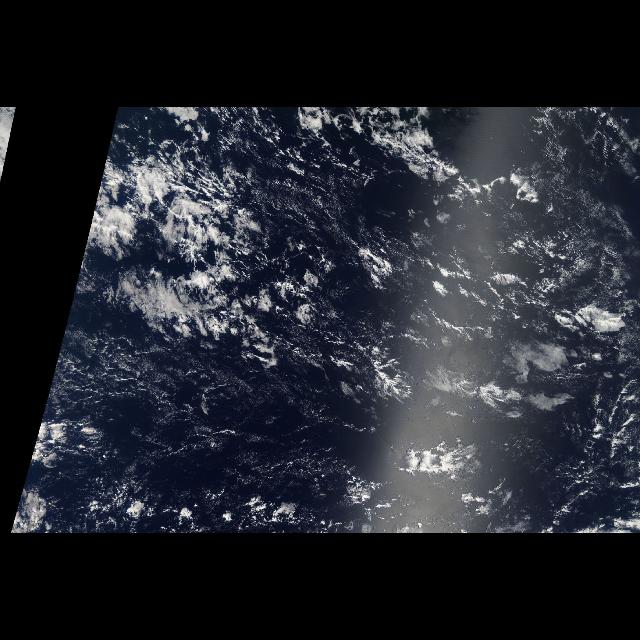Fish: (126, 158, 330, 356)
Sugar: (36, 304, 402, 498)
